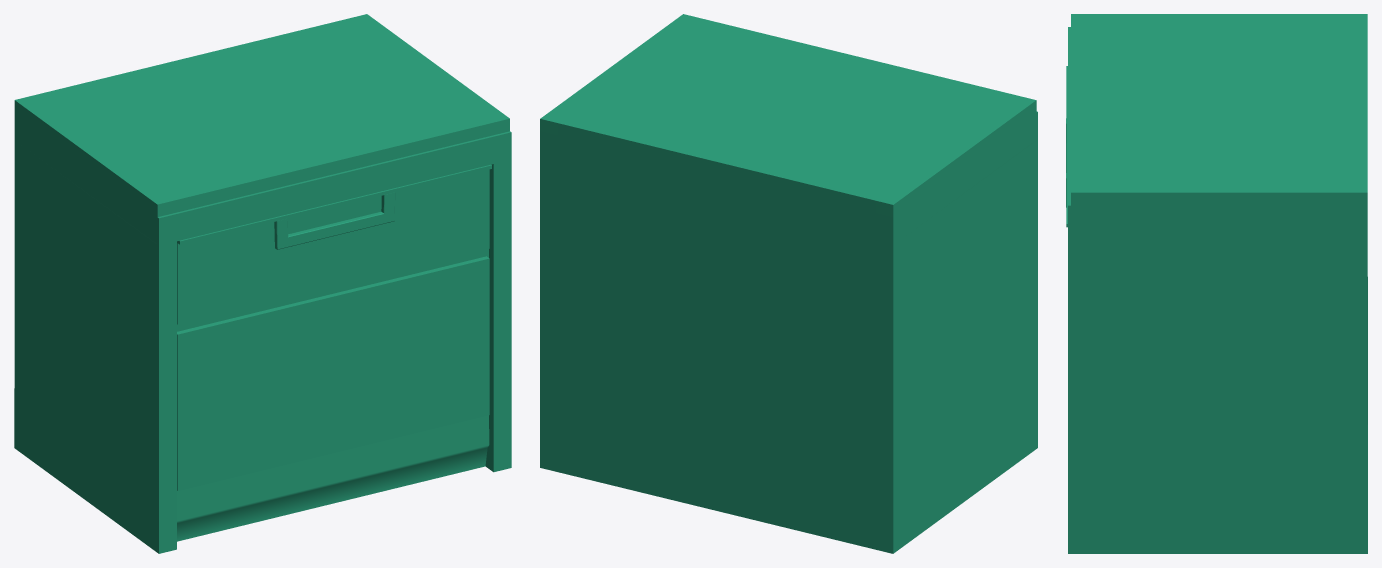
The model's file is drawer.fbx.
3 renders of one model, left to right at view 1: azimuth 30°, elevation 25°; view 2: azimuth 150°, elevation 25°; view 3: azimuth 270°, elevation 25°, orthographic. The views are drawn at different scales.
Parts seen in each view (by area): view 1: Object002; view 2: Object002; view 3: Object002.
Part boxes in pixels (x1,y1,x2,y2): Object002: (14,14,511,553); Object002: (540,14,1037,553); Object002: (1066,14,1367,553).
Size of the model in its own units: 1.61 by 1.52 by 1.15.
